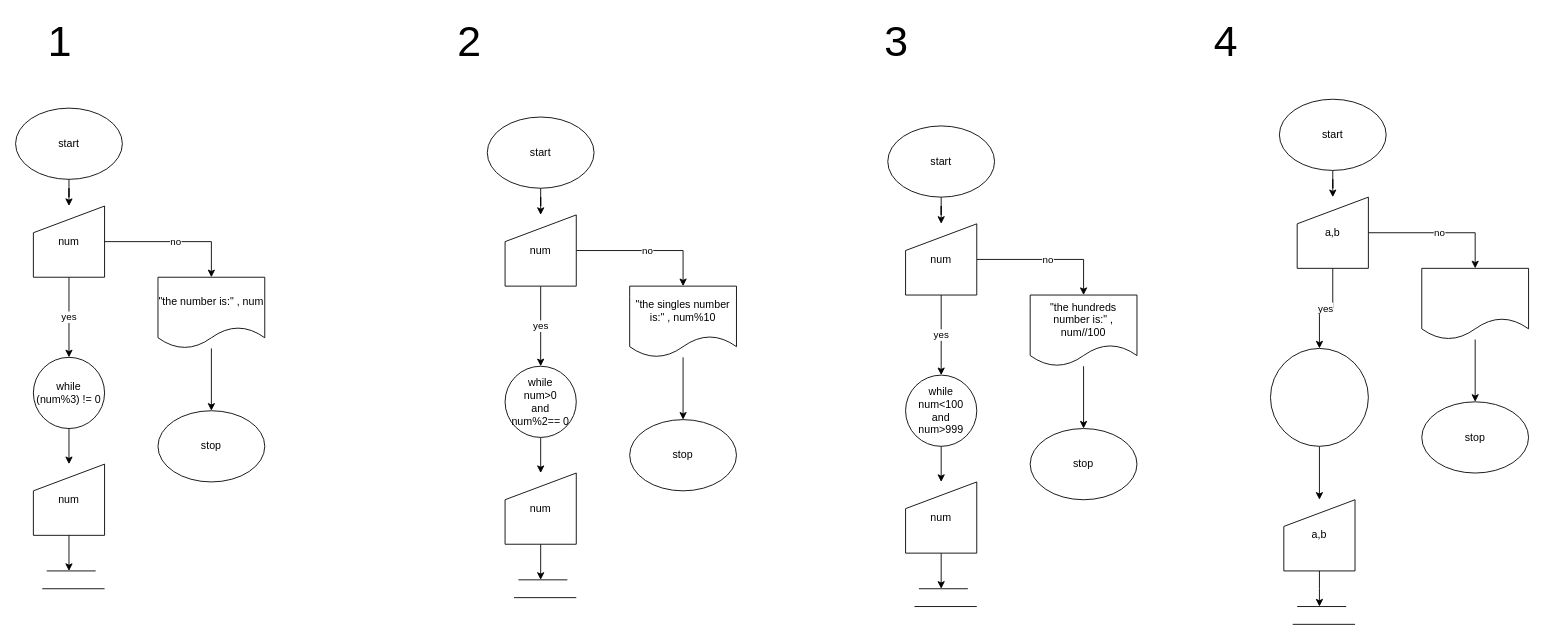
The diagram is 1544 pixels wide and 641 high, and some of its shapes have lost their labels. The shapes that lost their labels are listed below. From the top down, each one's centre as x and y in pixels, then its label:
(1475,303): "the numbers are opposites"
(1319,397): while a//10 != b%10 and b//10 != a%10
